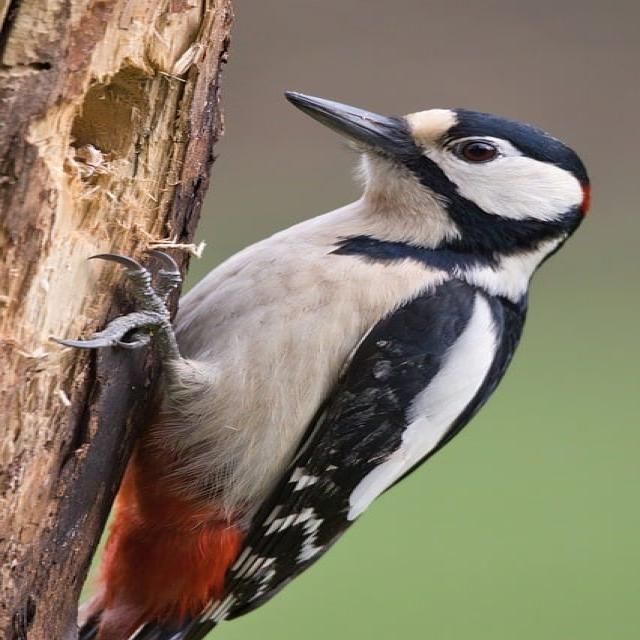Woodpecker: (74, 96, 597, 640)
